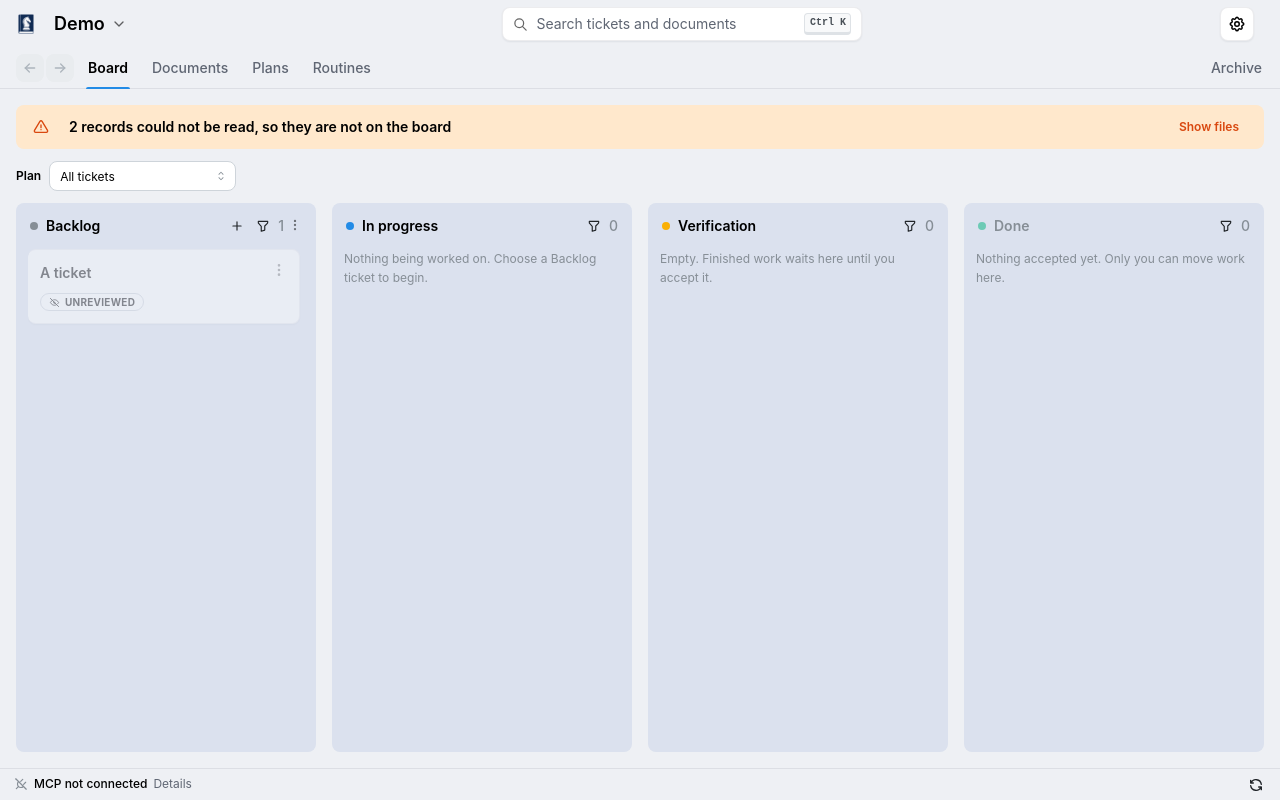
Test: a board with unreadable records › lists each file with its reason once asked, and says nothing was rewritten
Expected: the text "A ticket" is shown, [40,264,91,281]
Step 1. Click the button "Show files" → (1209, 127), box [1171,116,1247,138]
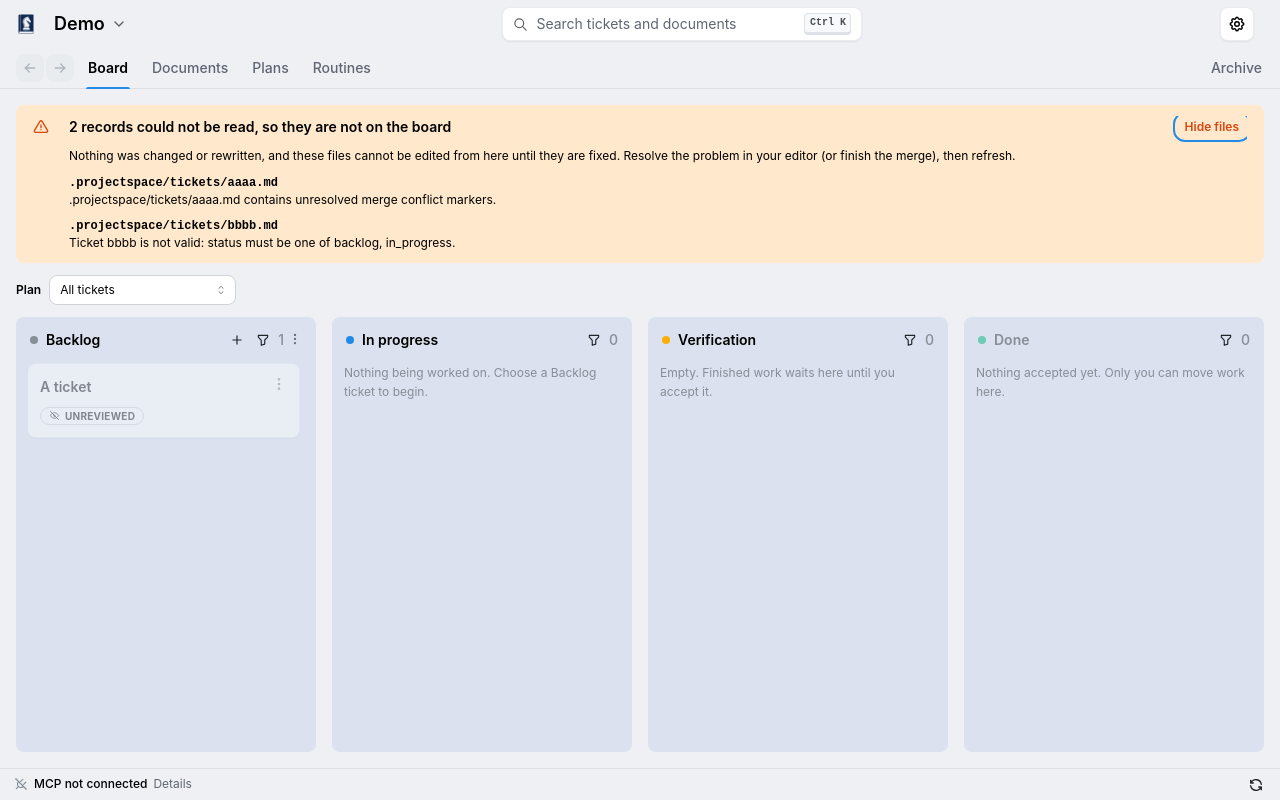
Expected: the text ".projectspace/tickets/bbbb.md" is shown, [69,219,278,233]
Expected: the text "status must be one of" is shown, [69,235,455,250]
Expected: the text "contains unresolved merge conflict markers" is shown, [69,192,496,207]
